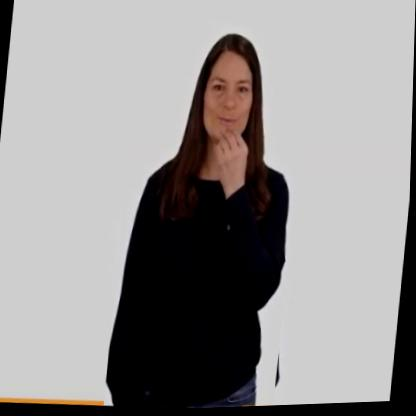Food: (106, 19, 311, 413)
